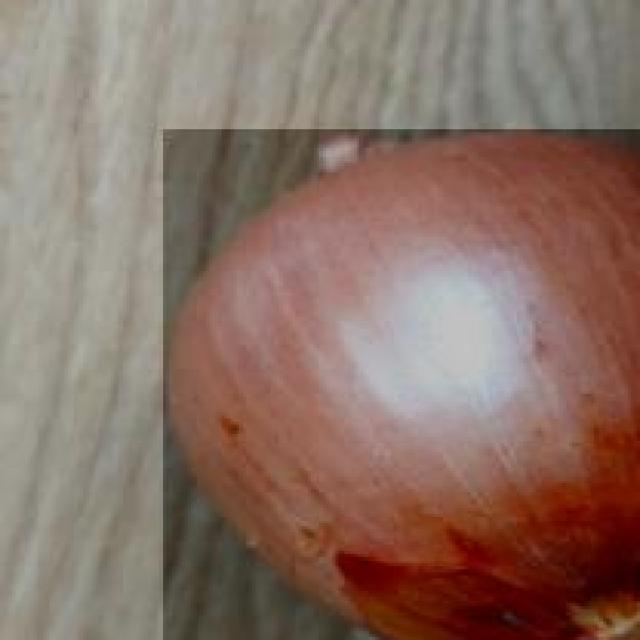onion: (157, 120, 640, 640)
